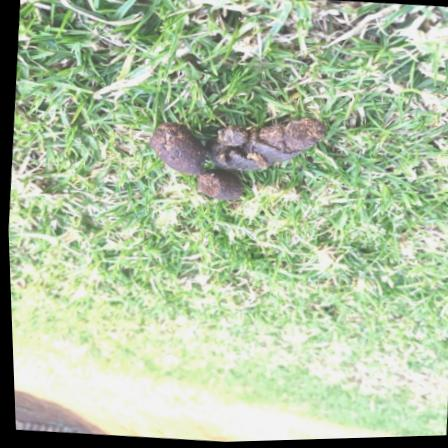dog-poop: (134, 93, 334, 217)
